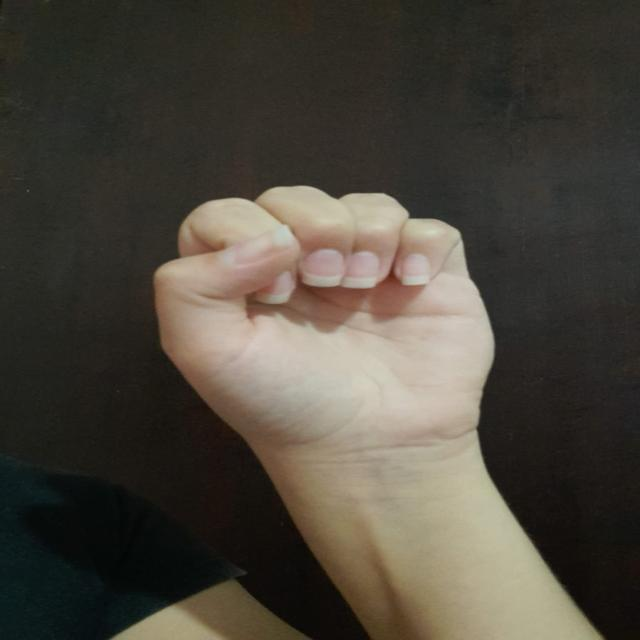S: (114, 182, 520, 440)
